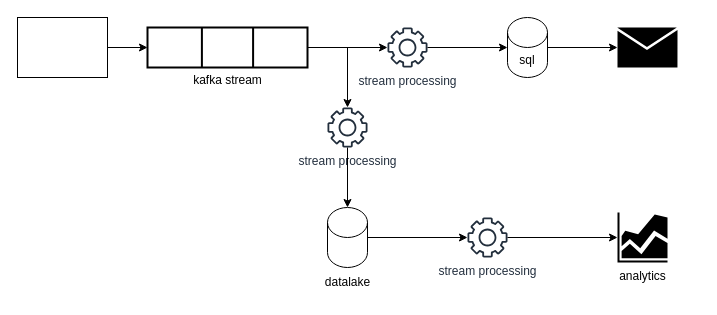
Image size: 717x315. Some labels were removed from this diagram. Here are the shapes that lost their labels. From the top down, the centre of each, then its label:
point (62, 47): drone (generating information)
point (647, 47): communicate alerts
point (347, 237): s3
